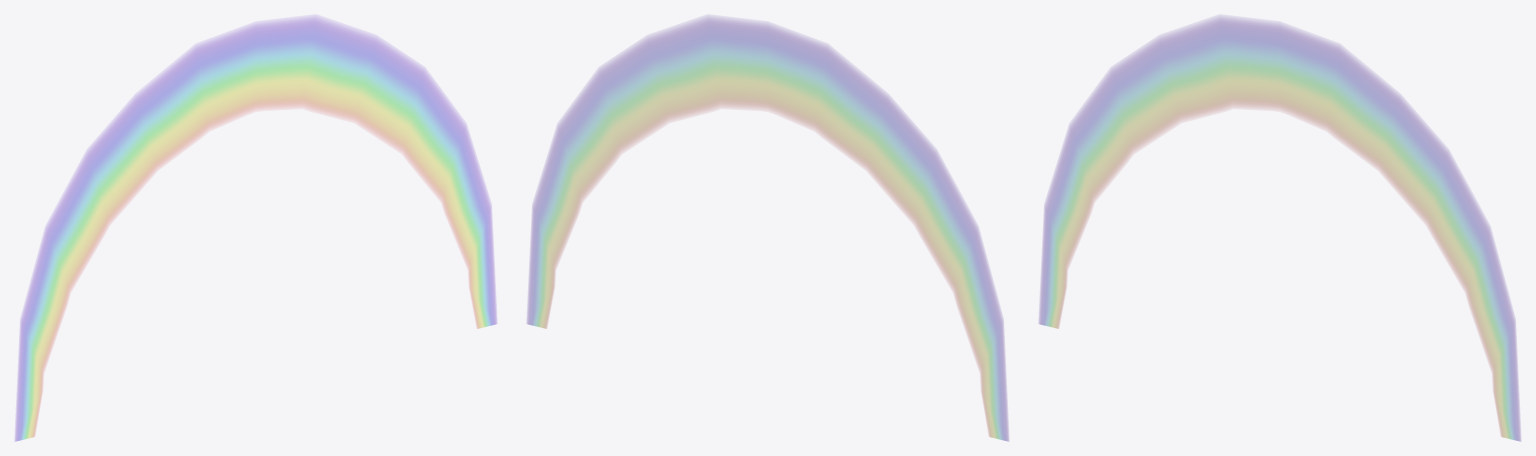
File: Poly_World_Map_Rainbow_01.obj
3 views of the same model, side by side, from view 1: azimuth 30°, elevation 25°; view 2: azimuth 150°, elevation 25°; view 3: azimuth 330°, elevation 25° (orthographic).
Parts seen in each view (by area): view 1: Grid.002; view 2: Grid.002; view 3: Grid.002.
Boxes of the visible parts, x1,y1,x2,y2 form: Grid.002: (15,16,496,441); Grid.002: (527,16,1008,441); Grid.002: (1039,16,1520,441).
Bounding box in the file's own units: 5.28 × 3.77 × 0.00426.
1 material, 1 textured.
